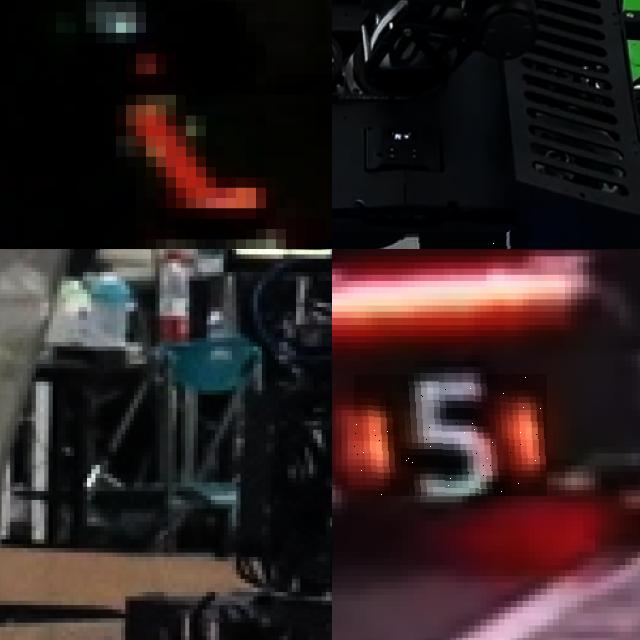R5: (354, 374, 547, 496)
